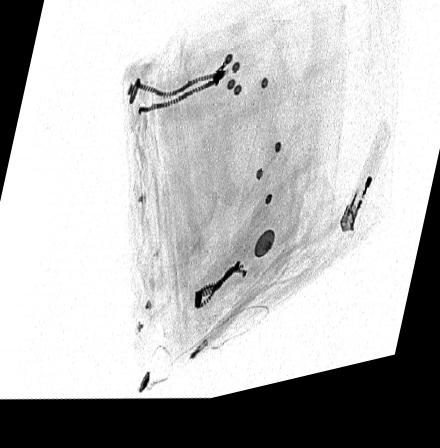Lighter: (338, 135, 391, 249)
